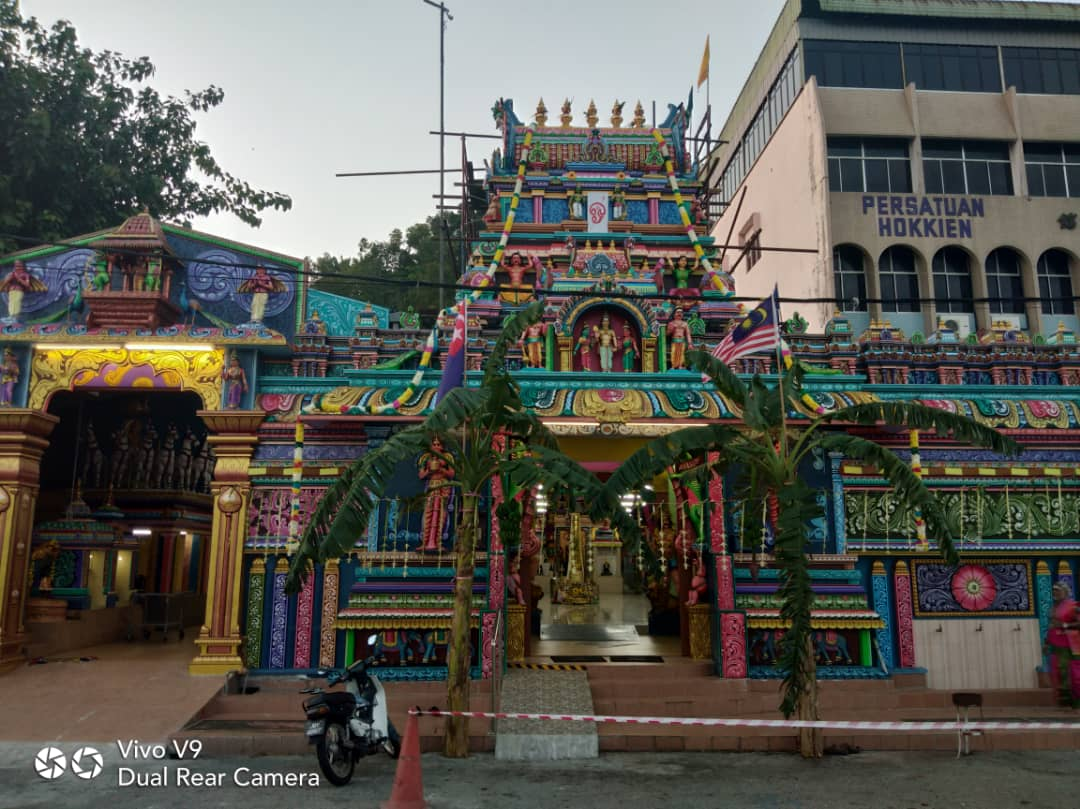Hindu Temple: (394, 90, 752, 660)
